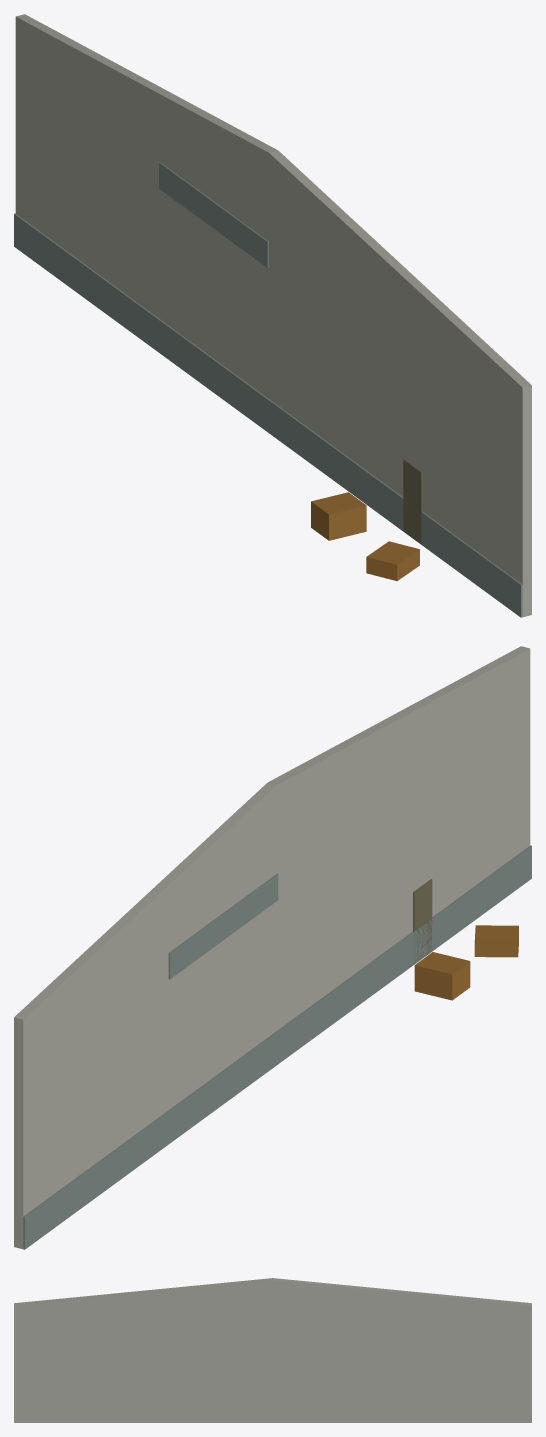
Rendered from SM_NavePoligono_Testero_e4_Saqueada_LOD0.fbx.
3 views of the same model, one above another, from view 1: azimuth 30°, elevation 25°; view 2: azimuth 150°, elevation 25°; view 3: azimuth 270°, elevation 25° (orthographic). The views are drawn at different scales.
Visible parts, largest first — view 1: SM_nave_poligono_v9_LOD0; view 2: SM_nave_poligono_v9_LOD0; view 3: SM_nave_poligono_v9_LOD0.
Boxes of the visible parts, box(x1,y1,x2,y2) form: SM_nave_poligono_v9_LOD0: box(14, 14, 531, 617); SM_nave_poligono_v9_LOD0: box(14, 646, 531, 1249); SM_nave_poligono_v9_LOD0: box(14, 1278, 531, 1422).
Bounding box in the file's own units: 2.6 × 8.5 × 28.
